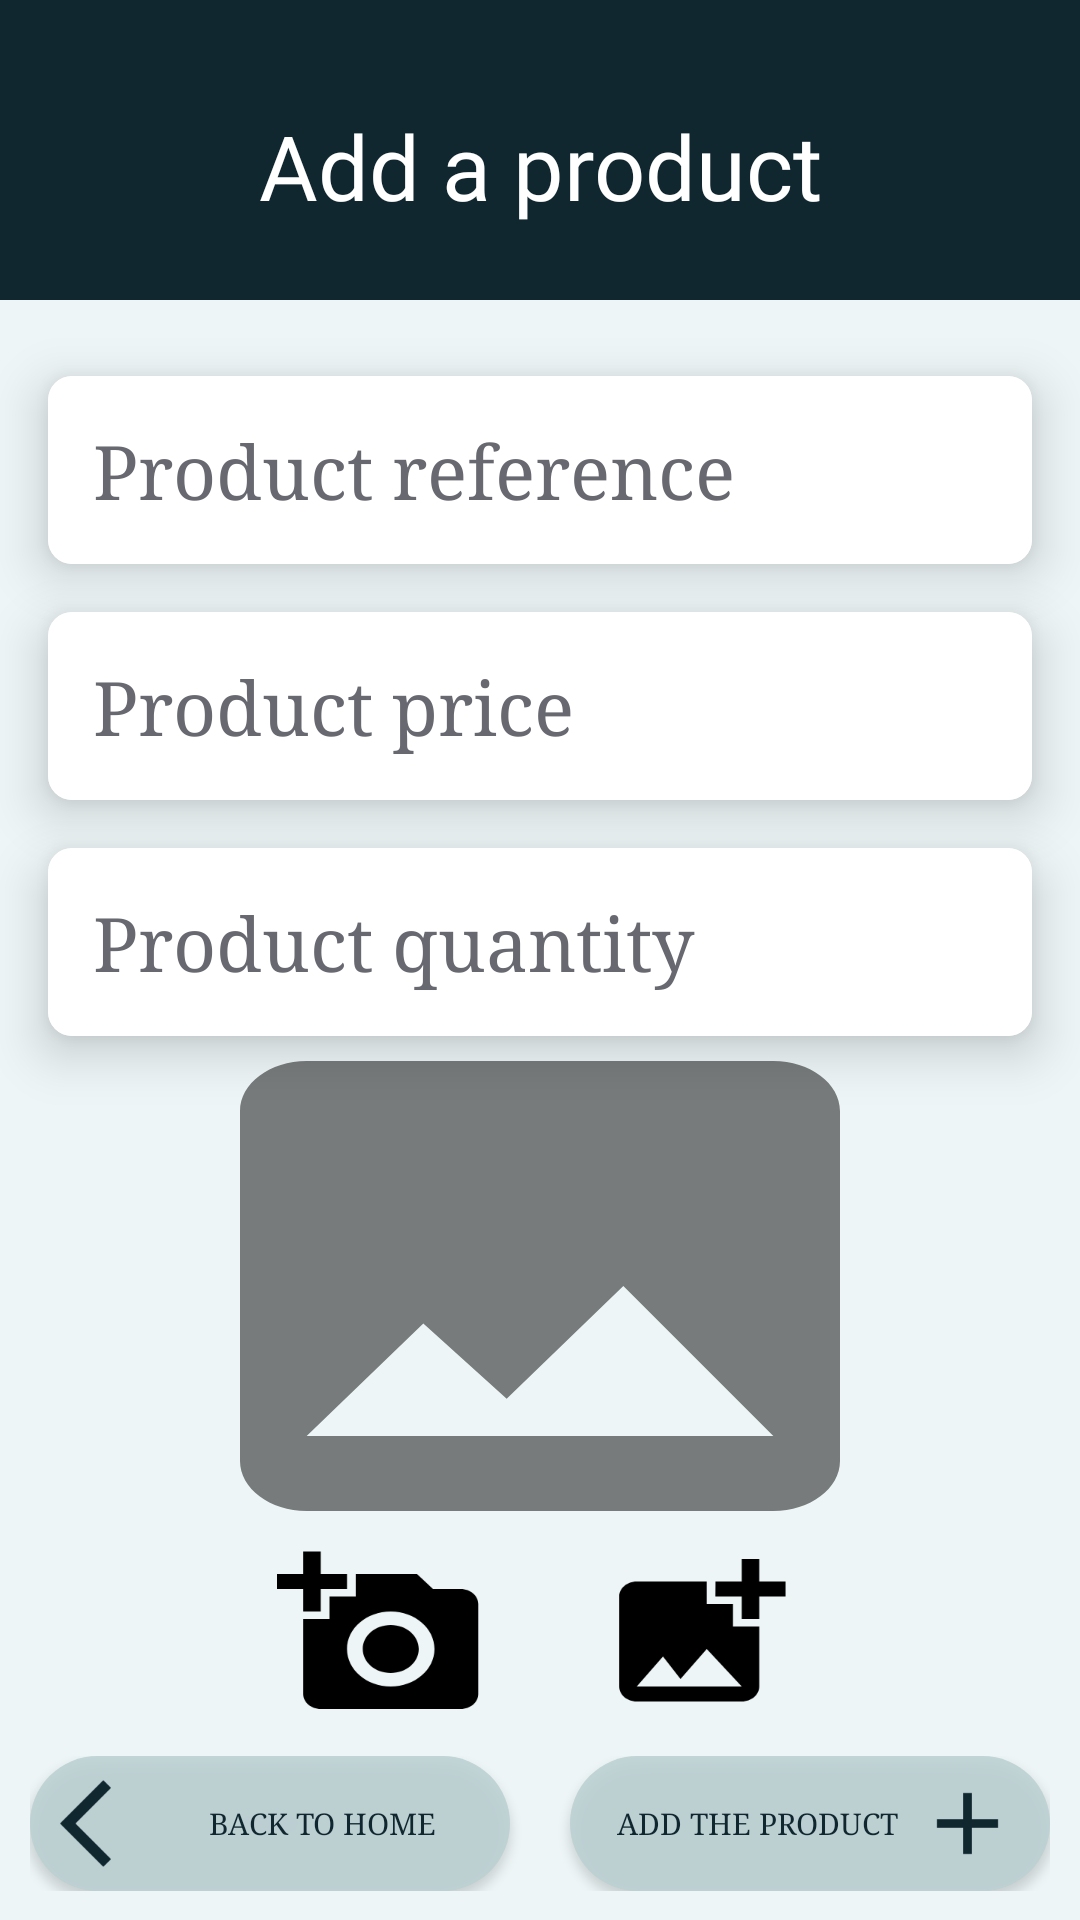

Where to tap for icons on this 1080x1920 app screen, as [x,y]:
camera: [378,1630]
gallery: [702,1630]
